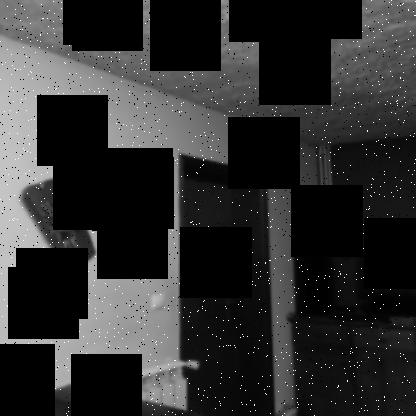Porte: (175, 151, 278, 416)
